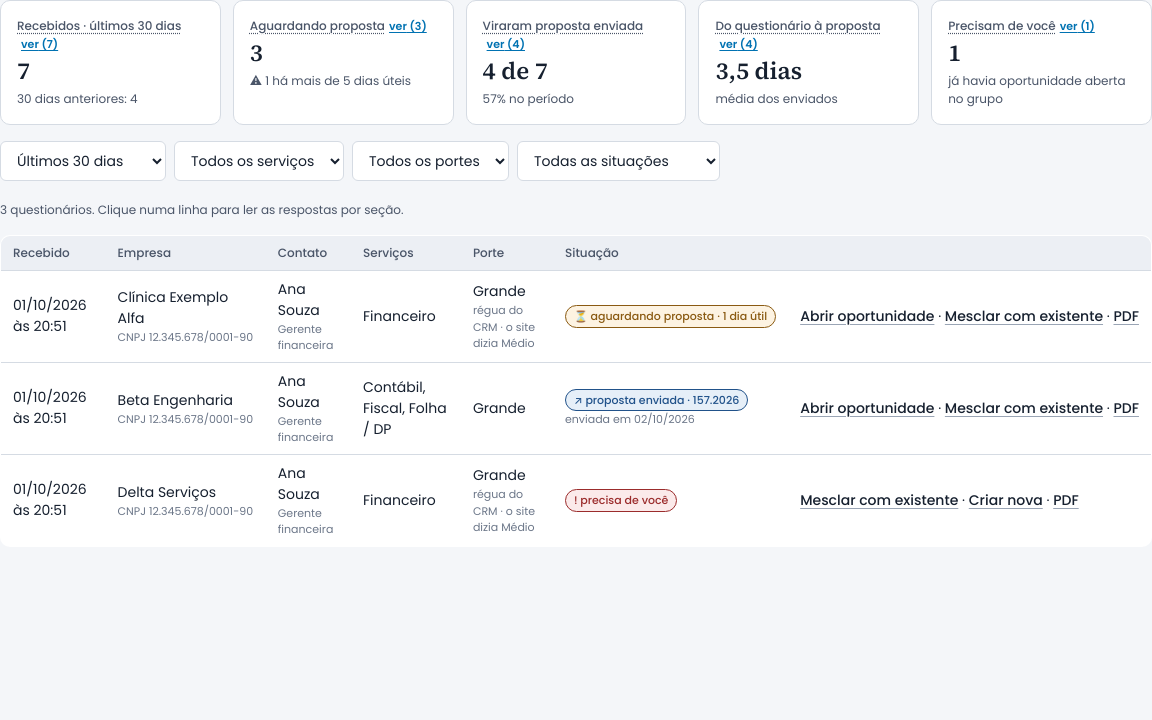
it: Questionários › cada número do topo explica a conta e abre os questionários que o compõem (10/10/2026)
The image size is (1152, 720).
Step 1. Click the button with aria-label "Ver composição: Precisam de você" → (1077,26), box [1060,18,1095,34]
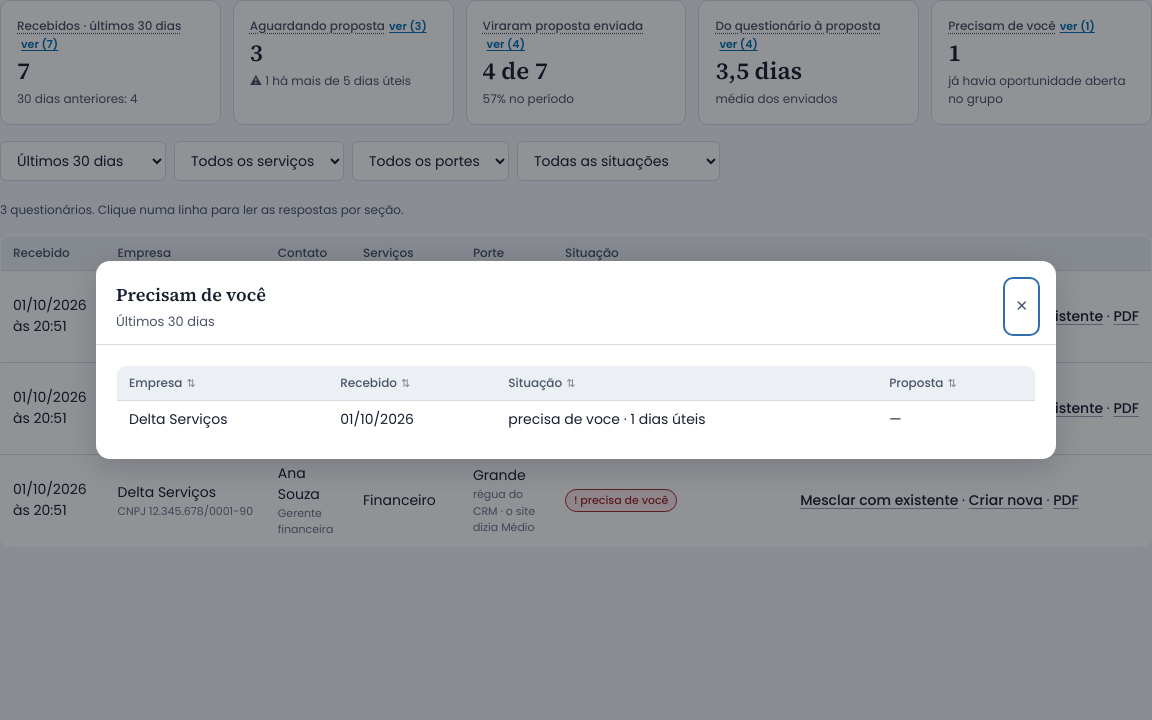
Result: the text "Delta Serviços" is shown at [116,400,328,438]
